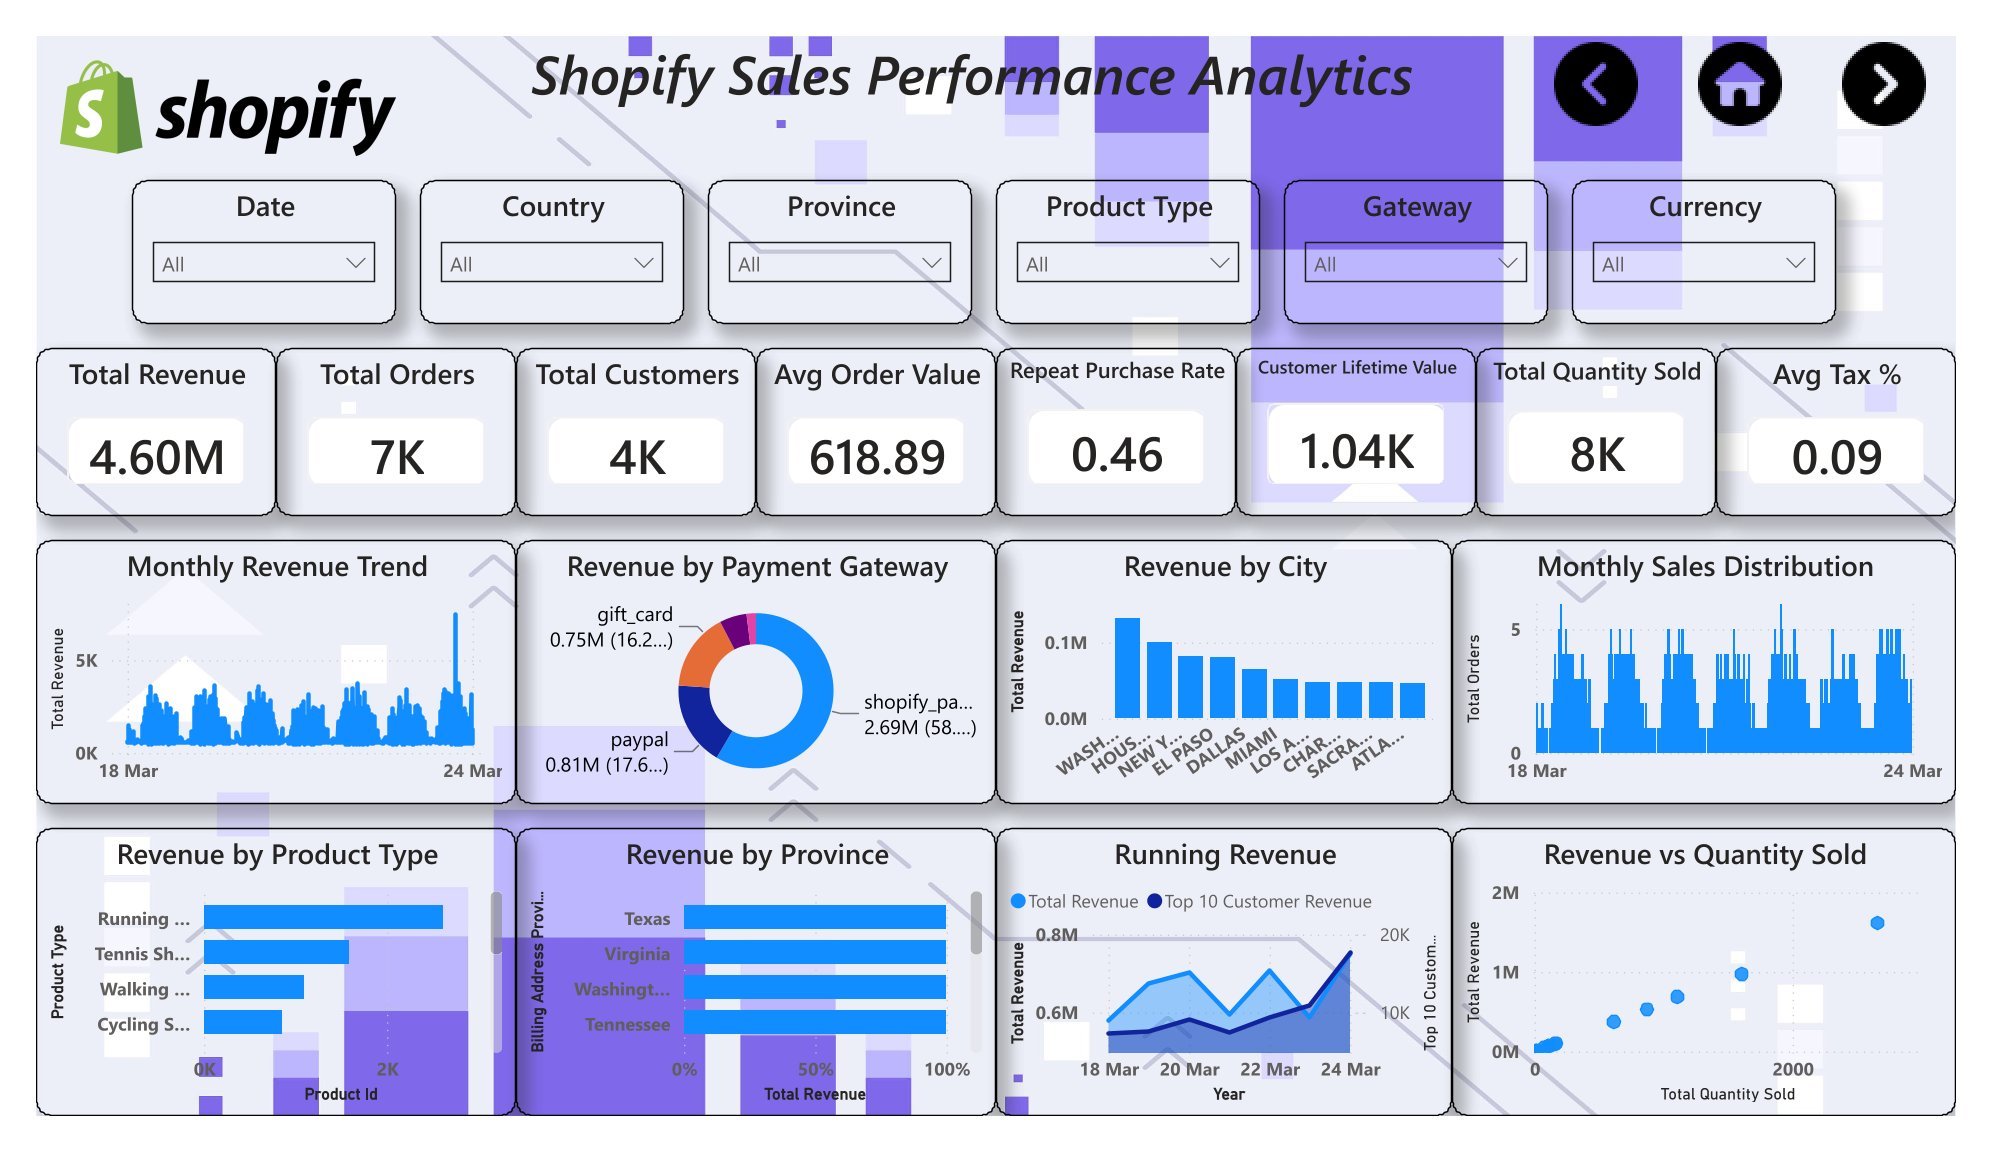

The page's visual inventory and layout, read from the dashboard file:
{"tool":"powerbi","page":{"name":"Sales","canvas":[1280,720],"ordinal":2},"visuals":[{"type":"image","box":[0,0,1280,720],"z":0},{"type":"image","box":[16,0,224,96],"z":1000},{"type":"textbox","title":"Shopify Sales Performance Analytics","box":[320,0,608,80],"z":2000},{"type":"actionButton","box":[1184,0,96,64],"z":3000},{"type":"actionButton","box":[1088,0,96,64],"z":4000},{"type":"actionButton","box":[992,0,96,64],"z":5000},{"type":"slicer","title":"Date","fields":{"Values":["shopify_sales.Invoice Date"]},"box":[64,96,176,96],"z":6000},{"type":"slicer","title":"Country","fields":{"Values":["shopify_sales.Billing Address Country"]},"box":[256,96,176,96],"z":7000},{"type":"slicer","title":"Province","fields":{"Values":["shopify_sales.Billing Address Province"]},"box":[448,96,176,96],"z":8000},{"type":"slicer","title":"Product Type","fields":{"Values":["shopify_sales.Product Type"]},"box":[640,96,176,96],"z":9000},{"type":"slicer","title":"Gateway","fields":{"Values":["shopify_sales.Gateway"]},"box":[832,96,176,96],"z":10000},{"type":"slicer","title":"Currency","fields":{"Values":["shopify_sales.Currency"]},"box":[1024,96,176,96],"z":11000},{"type":"cardVisual","title":"Total Revenue","fields":{"Data":["shopify_sales.Total Revenue"]},"box":[0,208,160,112],"z":12000},{"type":"cardVisual","title":"Total Orders","fields":{"Data":["shopify_sales.Total Orders"]},"box":[160,208,160,112],"z":13000},{"type":"cardVisual","title":"Total Customers","fields":{"Data":["shopify_sales.Total Customers"]},"box":[320,208,160,112],"z":14000},{"type":"cardVisual","title":"Avg Order Value","fields":{"Data":["shopify_sales.Average Order Value"]},"box":[480,208,160,112],"z":15000},{"type":"cardVisual","title":"Repeat Purchase Rate","fields":{"Data":["shopify_sales.Repeat Purchase Rate"]},"box":[640,208,160,112],"z":16000},{"type":"cardVisual","title":"Customer Lifetime Value","fields":{"Data":["shopify_sales.Customer Lifetime Value"]},"box":[800,208,160,112],"z":17000},{"type":"cardVisual","title":"Total Quantity Sold","fields":{"Data":["shopify_sales.Total Quantity Sold"]},"box":[960,208,160,112],"z":18000},{"type":"cardVisual","title":"Avg Tax %","fields":{"Data":["shopify_sales.Average Tax %"]},"box":[1120,208,160,112],"z":19000},{"type":"lineChart","title":"Monthly Revenue Trend","fields":{"Y":["shopify_sales.Total Revenue"],"Category":["shopify_sales.Invoice Date"]},"box":[0,336,320,176],"z":20000},{"type":"clusteredBarChart","title":"Revenue by Product Type","fields":{"Category":["shopify_sales.Product Type"],"Y":["CountNonNull(shopify_sales.Product Id)"]},"box":[0,528,320,192],"z":21000},{"type":"donutChart","title":"Revenue by Payment Gateway","fields":{"Category":["shopify_sales.Gateway"],"Y":["shopify_sales.Total Revenue"]},"box":[320,336,320,176],"z":22000},{"type":"hundredPercentStackedBarChart","title":"Revenue by Province","fields":{"Y":["shopify_sales.Total Revenue"],"Category":["shopify_sales.Billing Address Province"]},"box":[320,528,320,192],"z":23000},{"type":"clusteredColumnChart","title":"Revenue by City","fields":{"Y":["shopify_sales.Total Revenue"],"Category":["shopify_sales.CITY"]},"box":[640,336,304,176],"z":24000},{"type":"areaChart","title":"Running Revenue","fields":{"Y":["shopify_sales.Total Revenue"],"Category":["shopify_sales.Invoice Date.Variation.Date Hierarchy.Year","shopify_sales.Invoice Date.Variation.Date Hierarchy.Quarter","shopify_sales.Invoice Date.Variation.Date Hierarchy.Month","shopify_sales.Invoice Date.Variation.Date Hierarchy.Day"],"Y2":["shopify_sales.Top 10 Customer Revenue"]},"box":[640,528,304,192],"z":25000},{"type":"clusteredColumnChart","title":"Monthly Sales Distribution","fields":{"Y":["shopify_sales.Total Orders"],"Category":["shopify_sales.Invoice Date"]},"box":[944,336,336,176],"z":26000},{"type":"scatterChart","title":"Revenue vs Quantity Sold","fields":{"X":["shopify_sales.Total Quantity Sold"],"Y":["shopify_sales.Total Revenue"],"Category":["shopify_sales.Product Type"]},"box":[944,528,336,192],"z":27000}]}

Visuals, with their boxes in screenshot pixels (x1, y1, x2, y2), scaled from the page's 1280x720 canvas onto the 1992x1152 screenshot:
image: (0,0,1991,1151)
image: (25,0,374,154)
"Shopify Sales Performance Analytics" textbox: (498,0,1444,128)
actionButton: (1843,0,1991,102)
actionButton: (1693,0,1843,102)
actionButton: (1544,0,1693,102)
"Date" slicer: (100,154,374,307)
"Country" slicer: (398,154,672,307)
"Province" slicer: (697,154,971,307)
"Product Type" slicer: (996,154,1270,307)
"Gateway" slicer: (1295,154,1569,307)
"Currency" slicer: (1594,154,1868,307)
"Total Revenue" cardVisual: (0,333,249,512)
"Total Orders" cardVisual: (249,333,498,512)
"Total Customers" cardVisual: (498,333,747,512)
"Avg Order Value" cardVisual: (747,333,996,512)
"Repeat Purchase Rate" cardVisual: (996,333,1245,512)
"Customer Lifetime Value" cardVisual: (1245,333,1494,512)
"Total Quantity Sold" cardVisual: (1494,333,1743,512)
"Avg Tax %" cardVisual: (1743,333,1991,512)
"Monthly Revenue Trend" lineChart: (0,538,498,819)
"Revenue by Product Type" clusteredBarChart: (0,845,498,1151)
"Revenue by Payment Gateway" donutChart: (498,538,996,819)
"Revenue by Province" hundredPercentStackedBarChart: (498,845,996,1151)
"Revenue by City" clusteredColumnChart: (996,538,1469,819)
"Running Revenue" areaChart: (996,845,1469,1151)
"Monthly Sales Distribution" clusteredColumnChart: (1469,538,1991,819)
"Revenue vs Quantity Sold" scatterChart: (1469,845,1991,1151)
